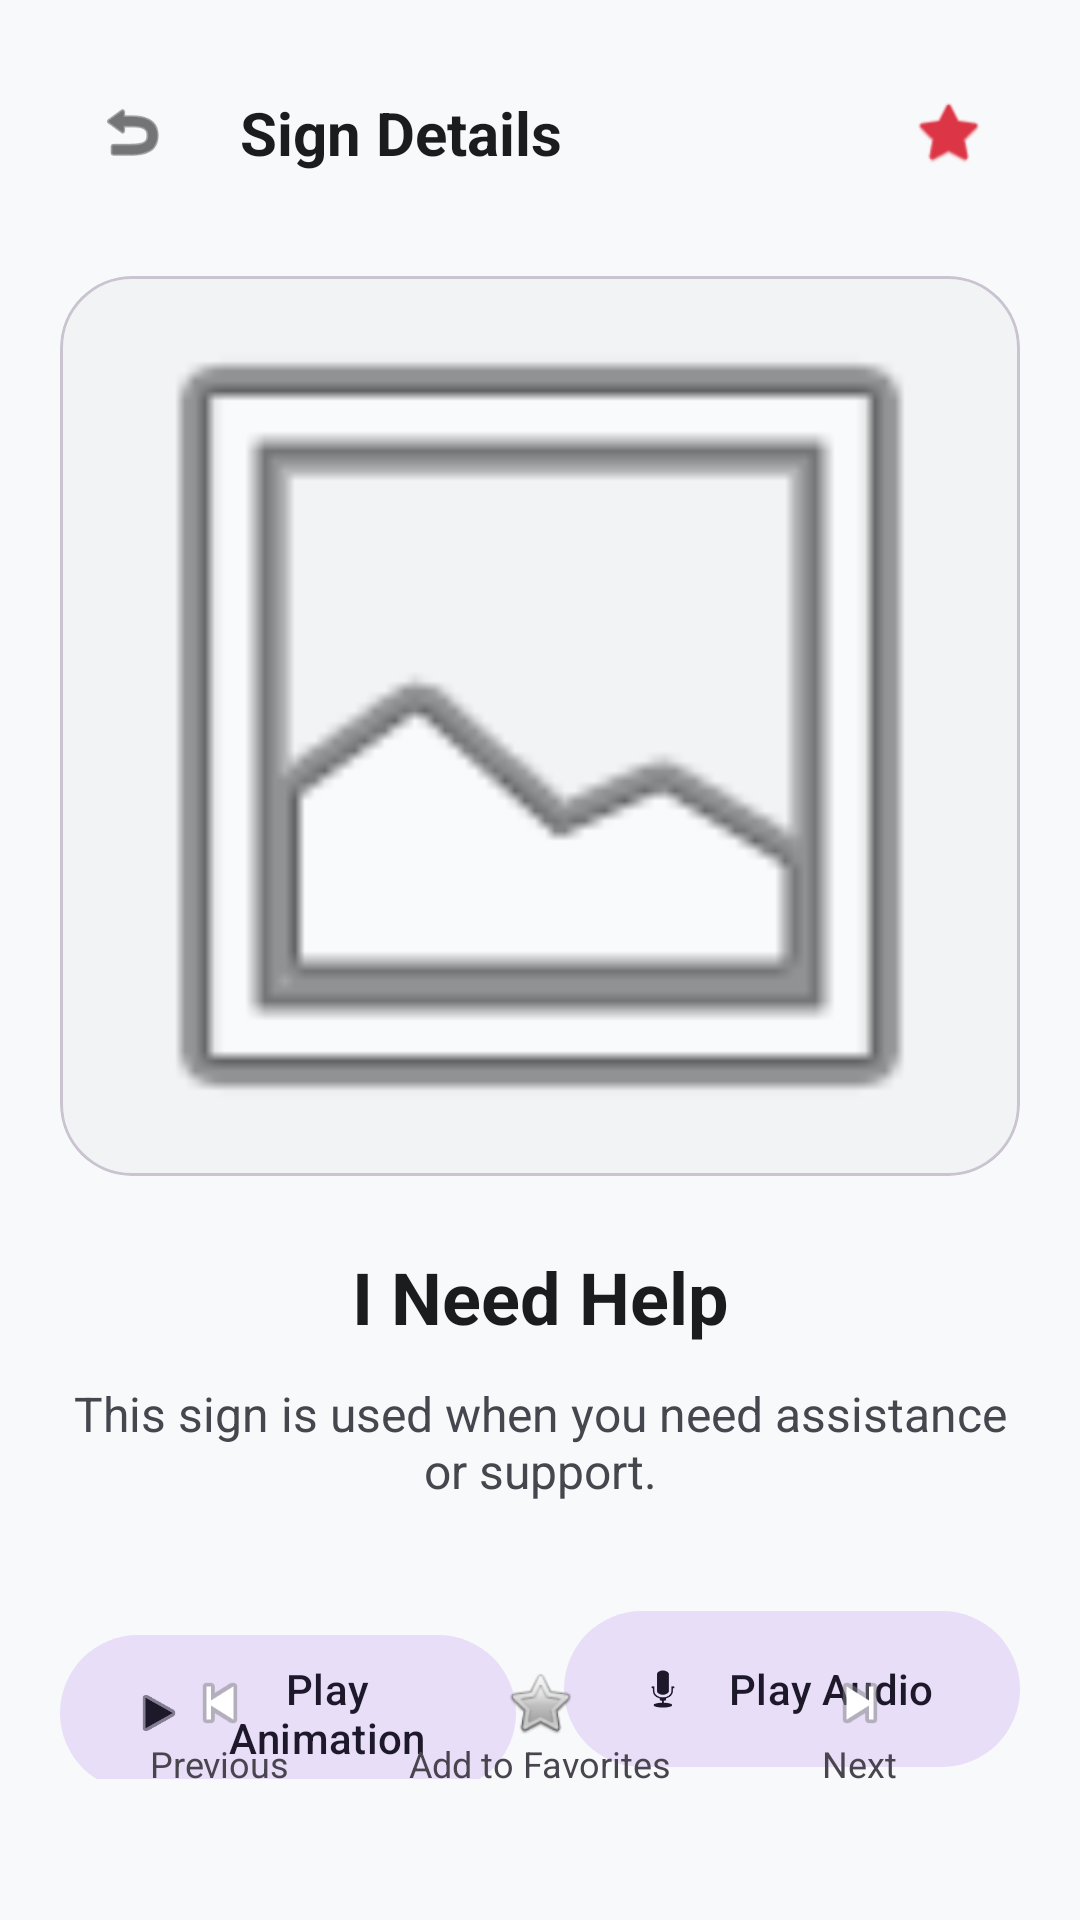

Where icons sit on this 1080x1920 app screen, as (x1, y1, x2, y2):
revert: (107, 109, 159, 156)
